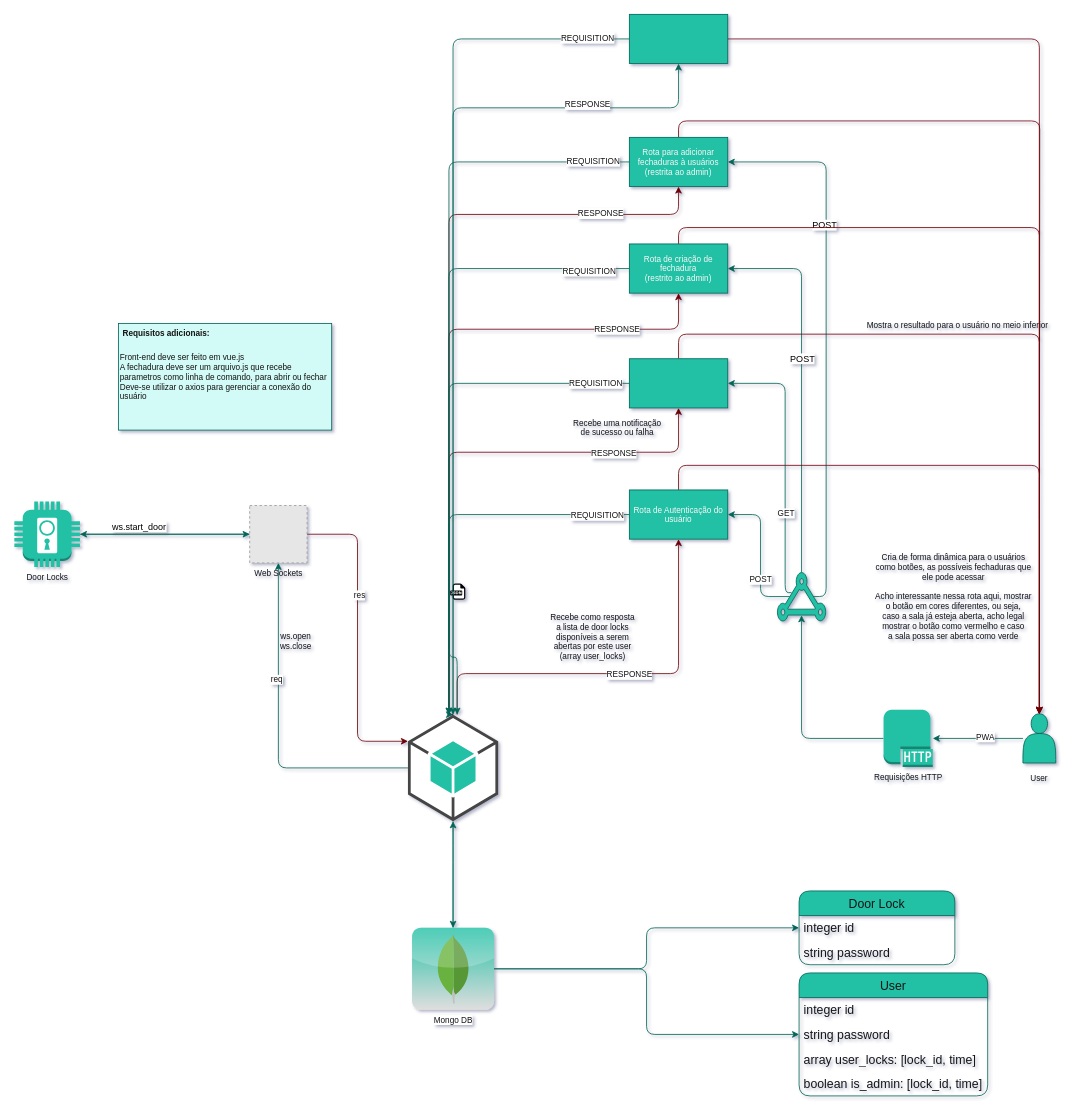
The diagram is 1075 pixels wide and 1115 high, and some of its shapes have lost their labels. Grey dashed boxes stand in for pictures. The shapes that lost their labels are listed below. From the top down, each one's centre as x and y in pixels, then its label:
point 678,39: Rota para listar as pessoas com acesso à uma fechadur X (restrito ao admin)
point 678,383: Rota de abertura de sala
point 457,591: JWT
point 801,596: Express Routes
point 452,767: Backend
